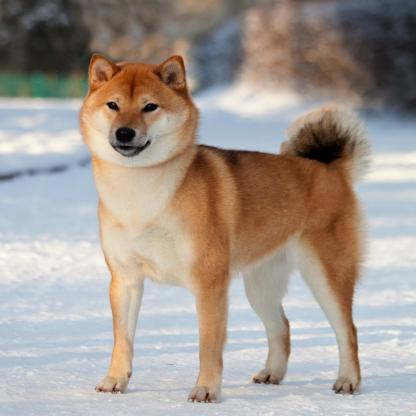Siba-ny: (81, 48, 368, 406)
